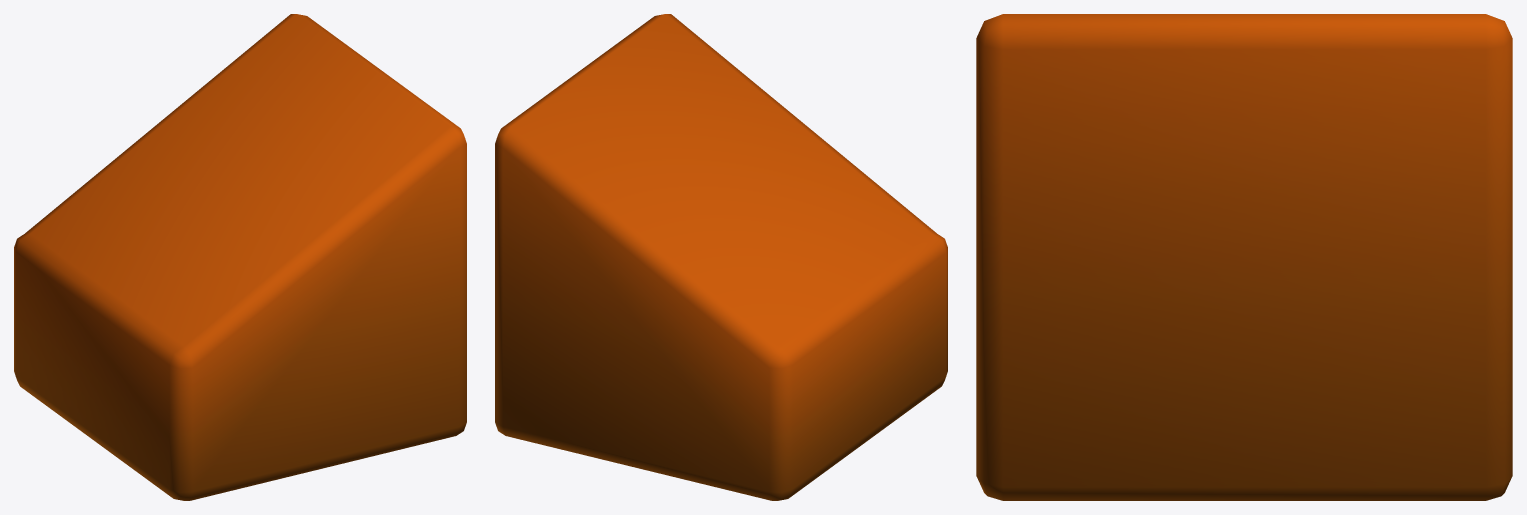
File: 3D_Tile_Ground_Slope_04A.fbx
3 views of the same model, side by side, from view 1: azimuth 30°, elevation 25°; view 2: azimuth 150°, elevation 25°; view 3: azimuth 270°, elevation 25° (orthographic). The views are drawn at different scales.
Parts seen in each view (by area): view 1: 3D_Tile_Ground_Slope_04A; view 2: 3D_Tile_Ground_Slope_04A; view 3: 3D_Tile_Ground_Slope_04A.
Part boxes in pixels (x1,y1,x2,y2): 3D_Tile_Ground_Slope_04A: [14, 14, 466, 500]; 3D_Tile_Ground_Slope_04A: [495, 14, 947, 500]; 3D_Tile_Ground_Slope_04A: [976, 14, 1512, 500].
Size of the model in its own units: 200 by 200 by 200.
